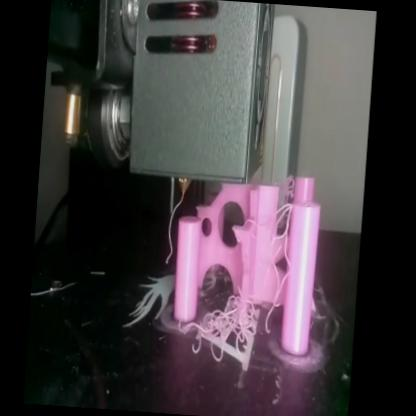fail: (198, 292, 259, 362), (262, 201, 296, 320)
